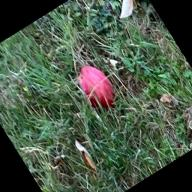Apples: (72, 59, 121, 115)
